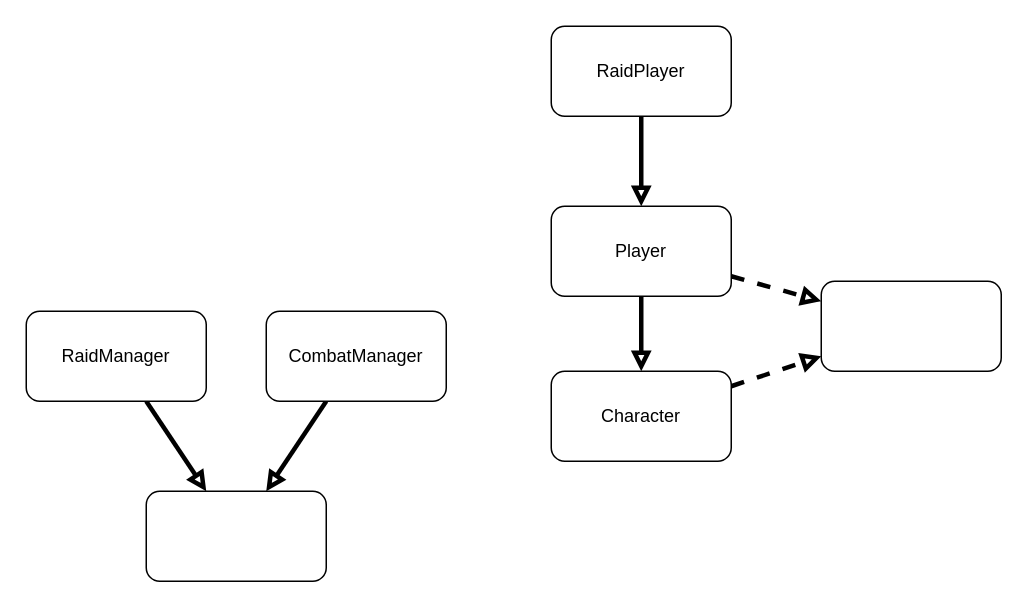
The diagram is 1028 pixels wide and 608 high, and some of its shapes have lost their labels. The shapes that lost their labels are listed below. From the top down, each one's centre as x and y in pixels, then its label:
At (910,325): "Timer".
At (235,535): "BaseManager".
